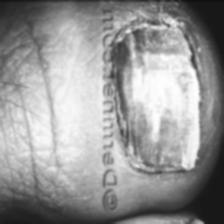Toxin: (116, 14, 198, 182)
